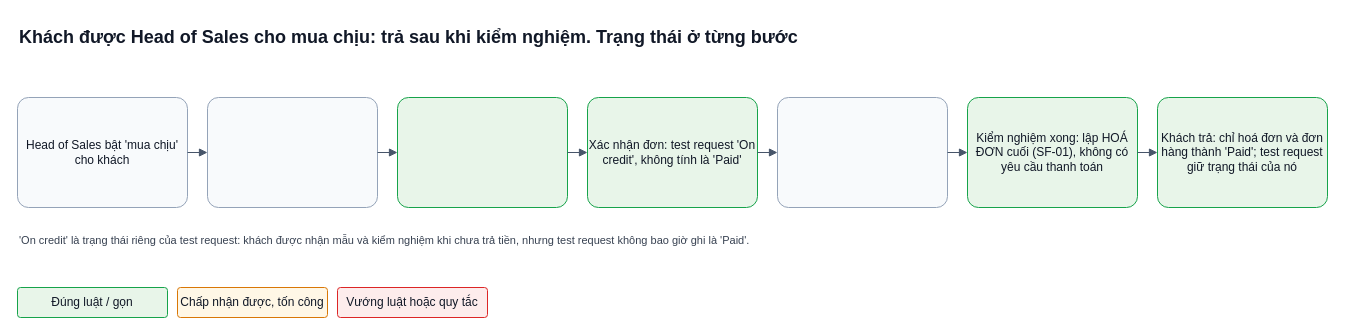
The diagram is 1345 pixels wide and 335 high, and some of its shapes have lost their labels. Here are the shapes that lost their labels. From the top down, the box of each, then its label:
(206, 96, 378, 208): Gửi báo giá KHÔNG kèm tạm ứng
(396, 96, 568, 208): Khách chấp nhận: báo giá 'Accepted', không phải 'Paid' (#461 đã làm trên main)
(776, 96, 948, 208): Nhận mẫu, kiểm nghiệm, phát hành báo cáo
